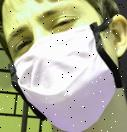with_mask: (1, 2, 127, 132)
